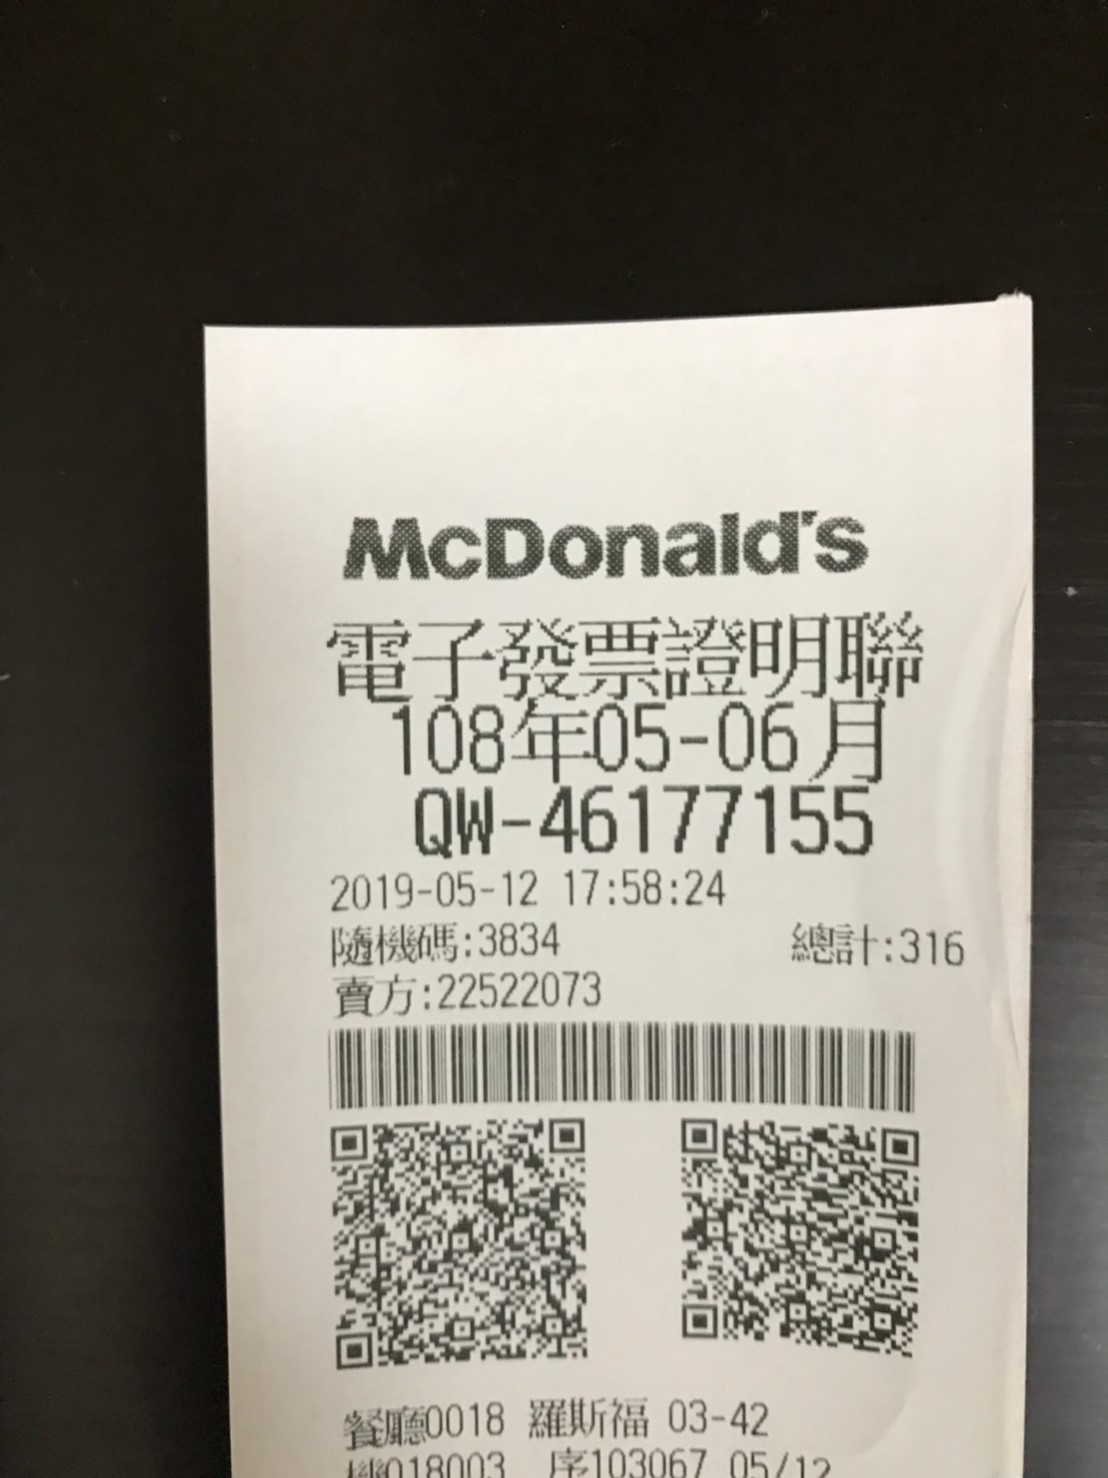Date_New: (393, 701, 888, 783)
Number_New: (539, 777, 876, 853)
